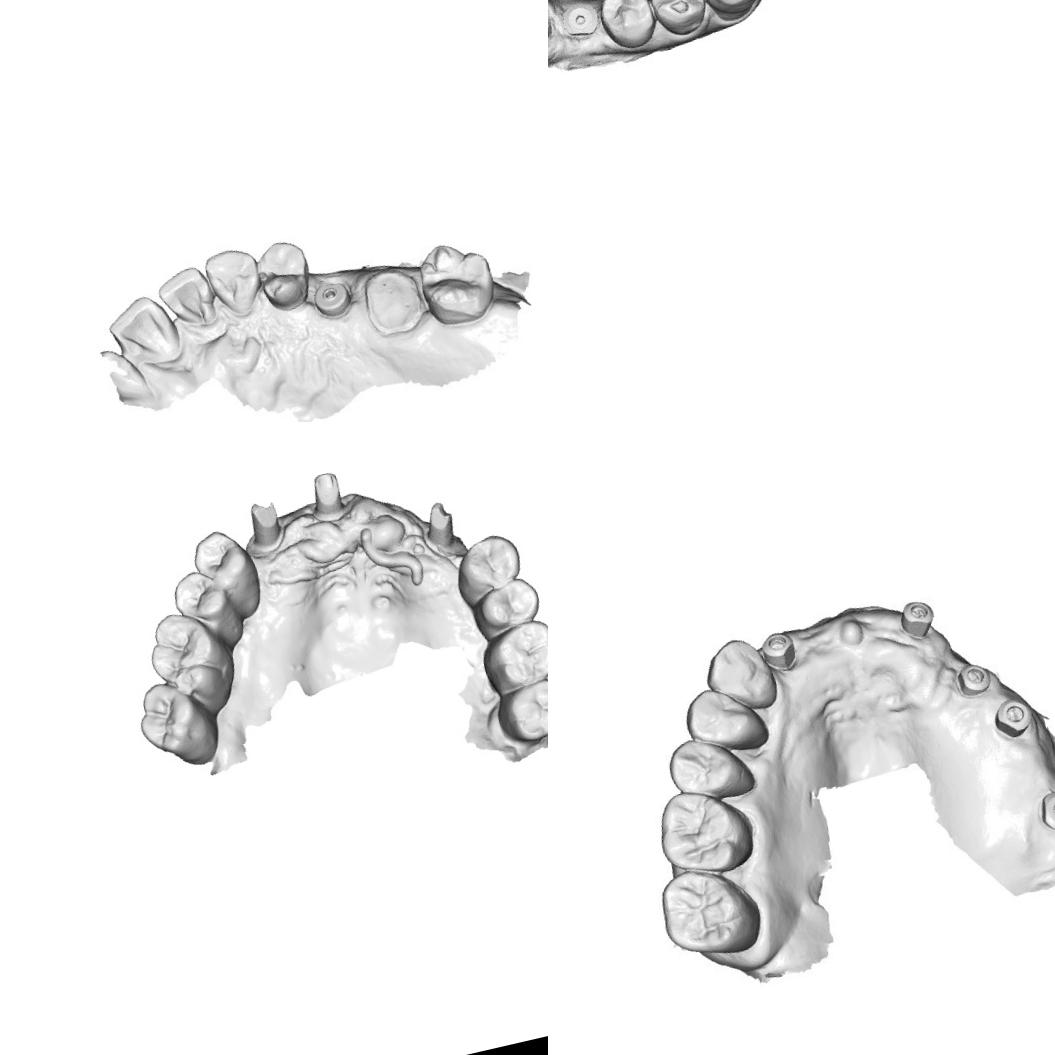abutment: (235, 494, 291, 560), (414, 498, 465, 564), (302, 468, 353, 527)
canine: (698, 630, 781, 720), (200, 242, 268, 324), (695, 0, 766, 22)
implant: (310, 272, 364, 327), (992, 695, 1040, 743), (558, 0, 605, 46), (760, 629, 806, 676), (951, 658, 997, 704), (898, 593, 942, 640), (1033, 781, 1055, 837)
incisor: (100, 288, 188, 378), (152, 262, 223, 336)
molar: (655, 859, 770, 969), (650, 777, 761, 885), (140, 602, 243, 717), (130, 672, 225, 777), (409, 232, 504, 331), (474, 615, 548, 698), (491, 675, 548, 748)
premolar: (661, 727, 756, 811), (186, 522, 264, 614), (677, 678, 764, 758), (167, 563, 244, 650), (447, 529, 530, 609), (249, 233, 324, 316), (466, 573, 546, 644), (593, 0, 663, 55), (646, 0, 717, 43)
